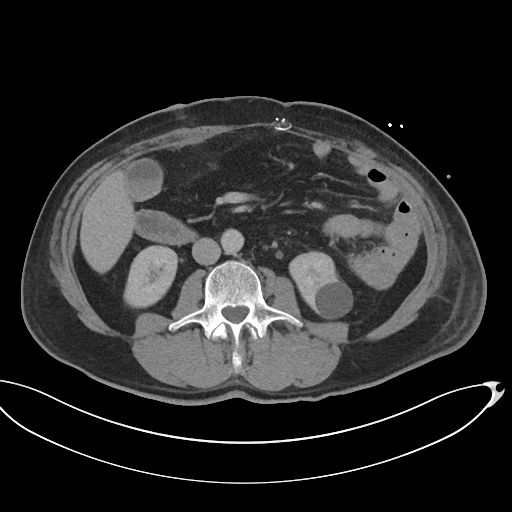Lesion: (312, 276, 356, 322)
